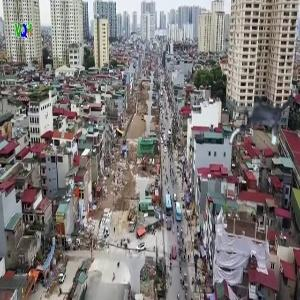drone: (226, 87, 300, 162)
